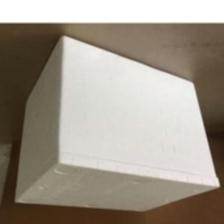foam_box: (10, 31, 223, 216)
